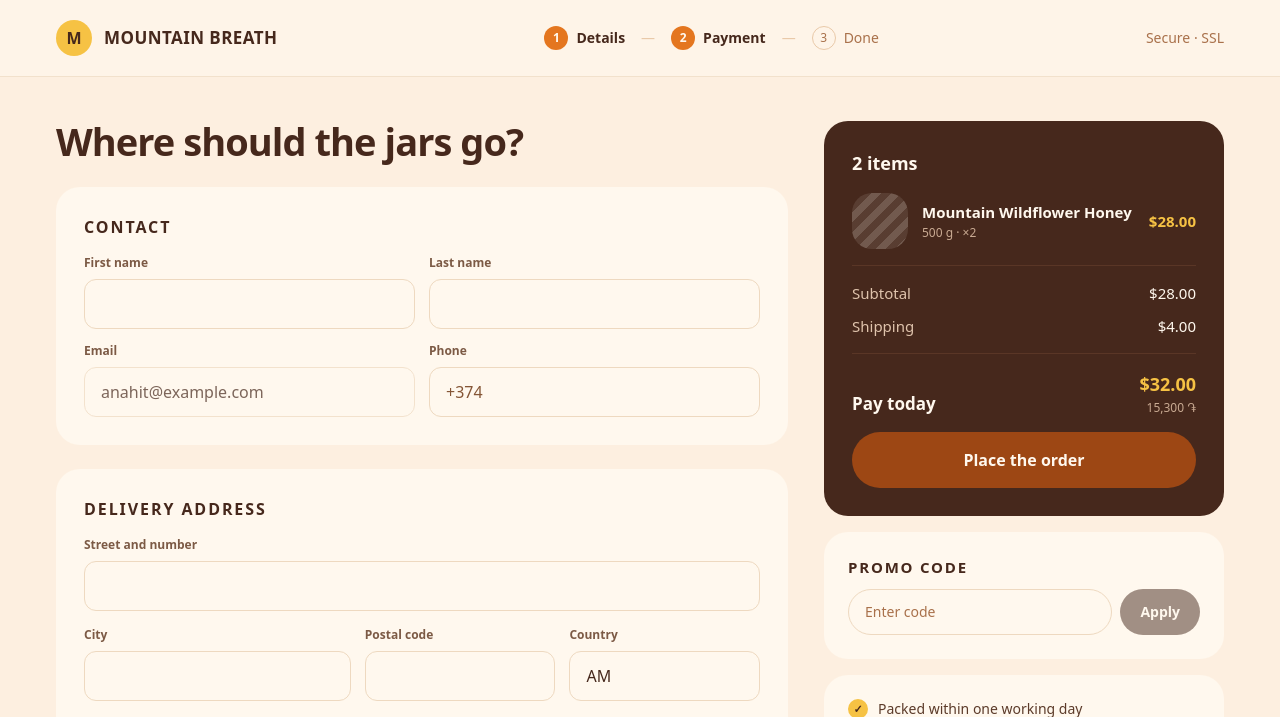
CheckoutPage › a stock 409 says how many are left, with a link to fix the cart
Expected: the heading "Where should the jars go?" is shown, [56,115,523,167]
Type "Anahit" into the field labelled "First name" at (250, 304), box [84,279,415,329]
Type "Sargsyan" into the field labelled "Last name" at (594, 304), box [429,279,760,329]
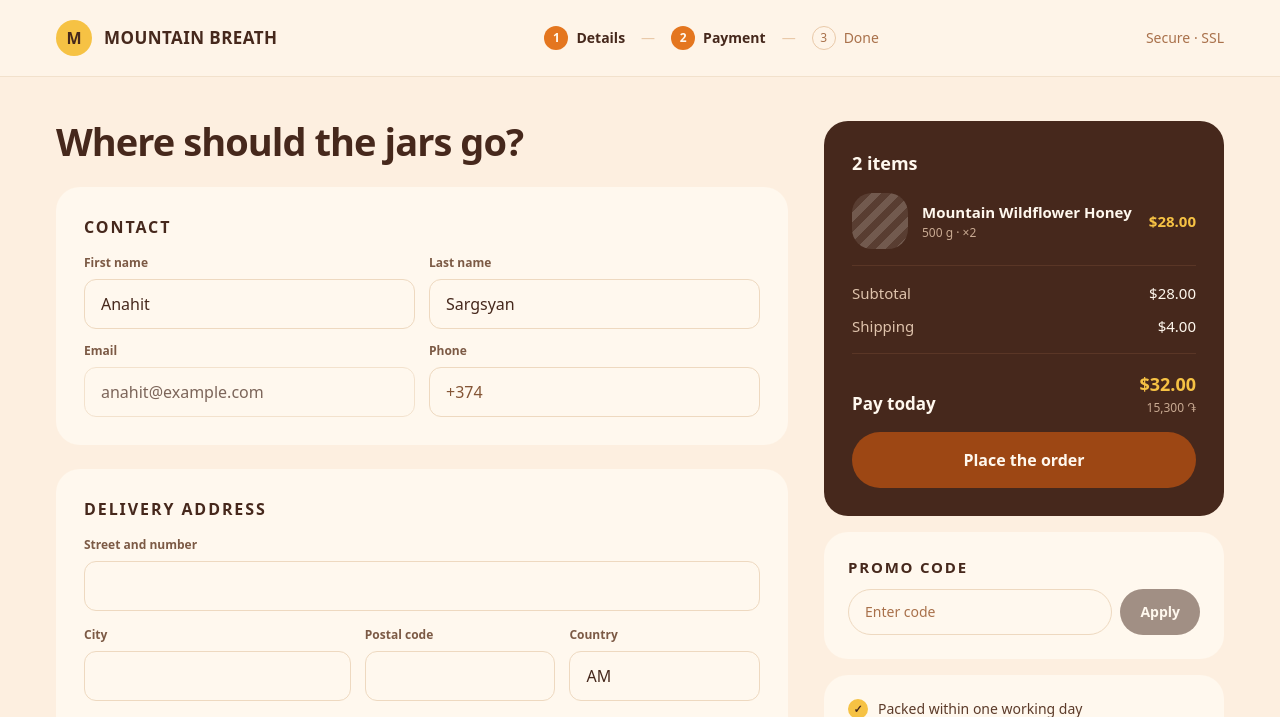
Type "+374 91 000000" into the field labelled "Phone" at (594, 392), box [429,367,760,417]
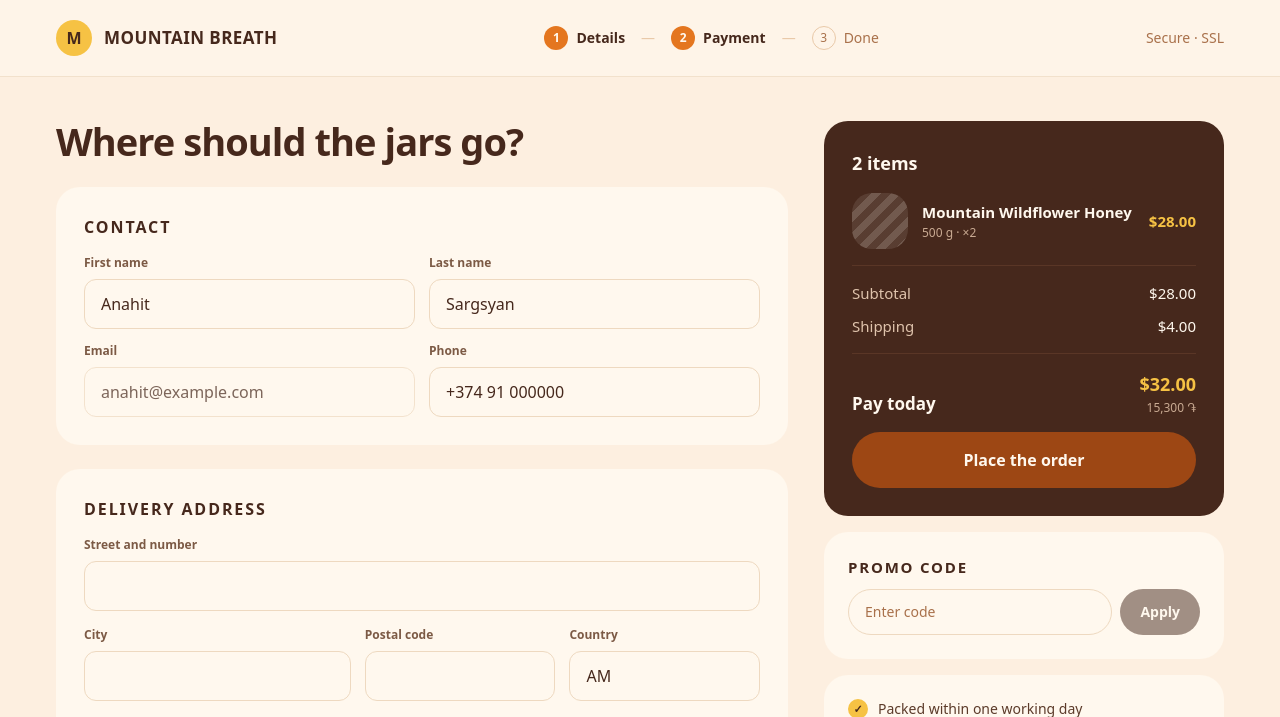
Type "14 Abovyan St, apt 6" into the field labelled "Street and number" at (422, 586), box [84,561,760,611]
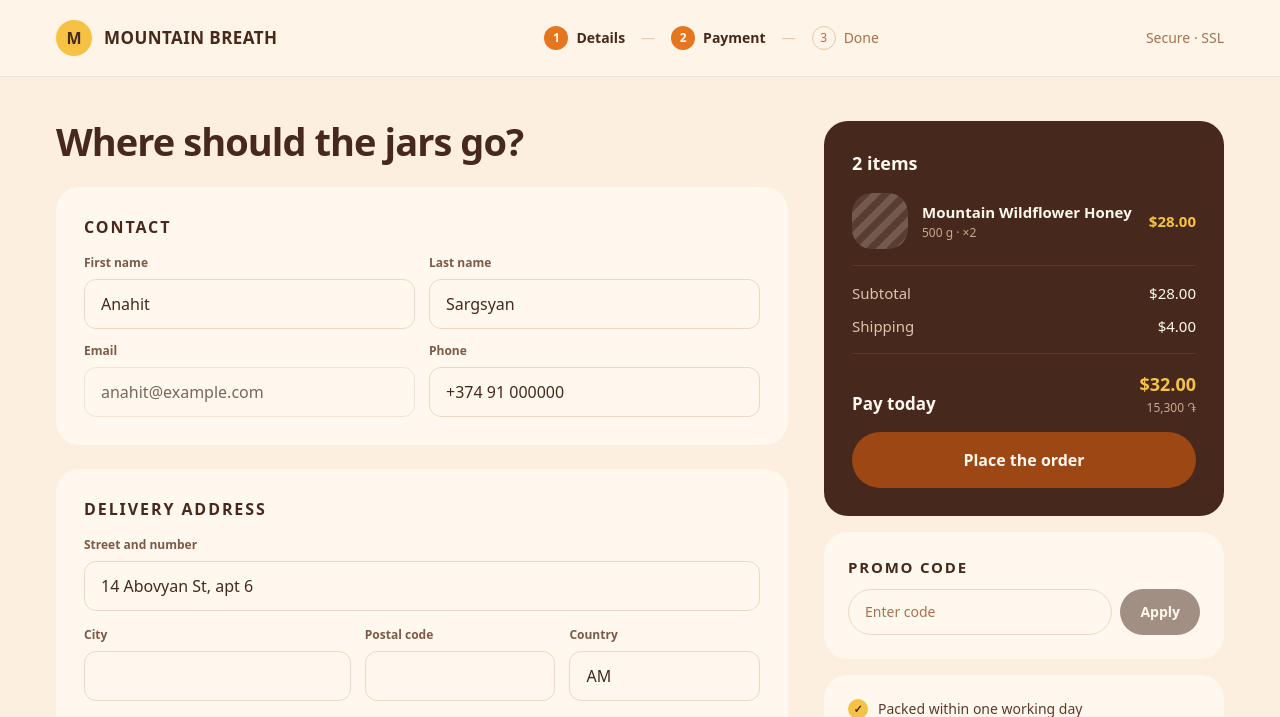
Type "Yerevan" into the field labelled "City" at (217, 676), box [84,651,351,701]
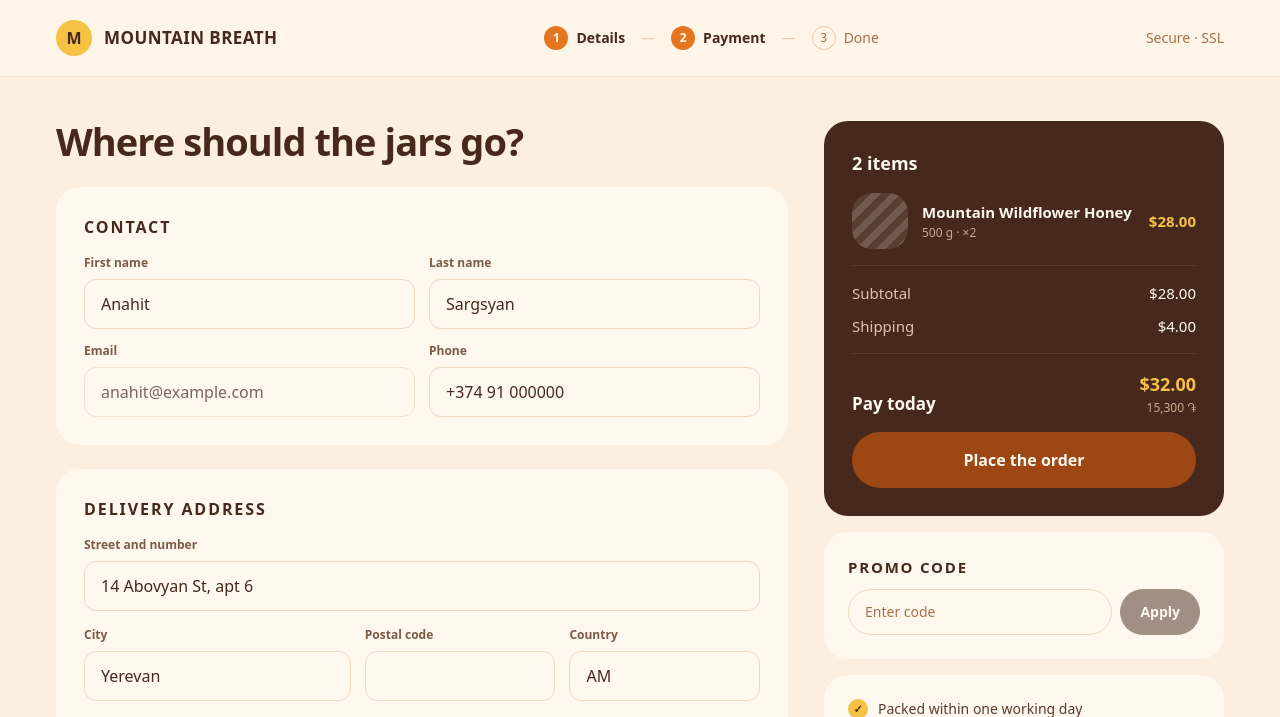
Type "0009" into the field labelled "Postal code" at (460, 676), box [365,651,555,701]
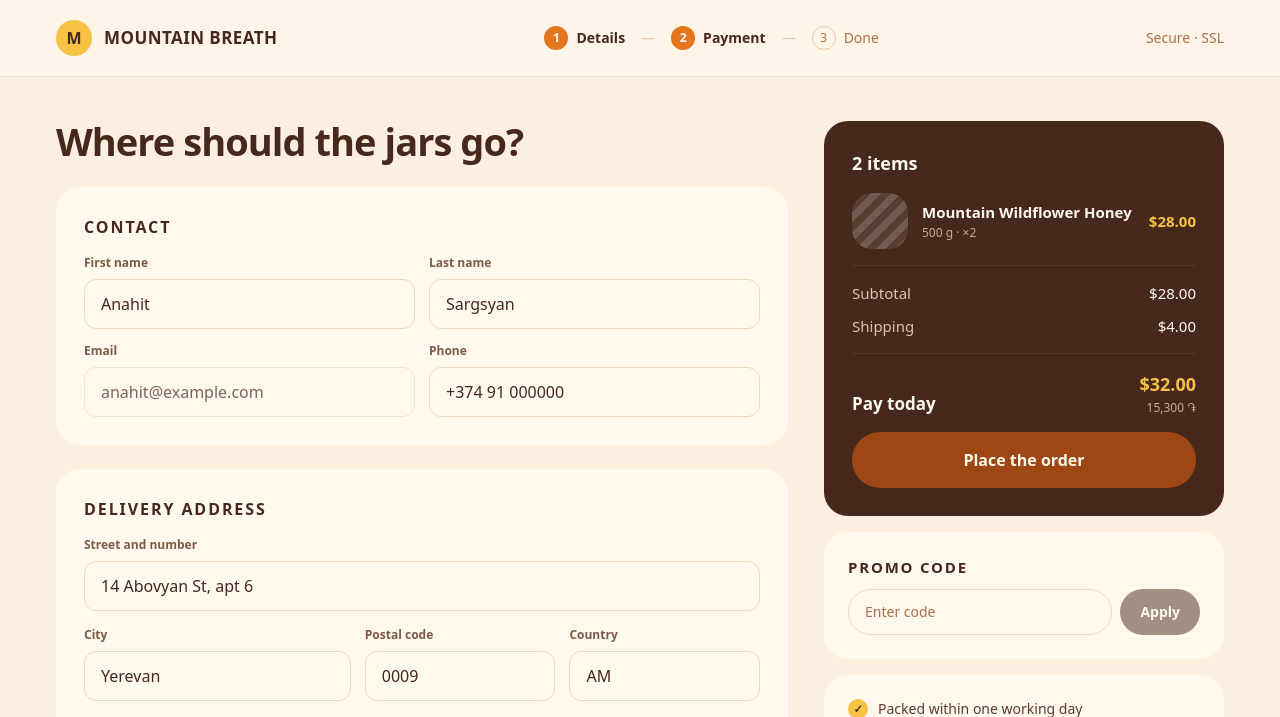
Click the button "Place the order" at (1024, 460), box [852,432,1196,488]
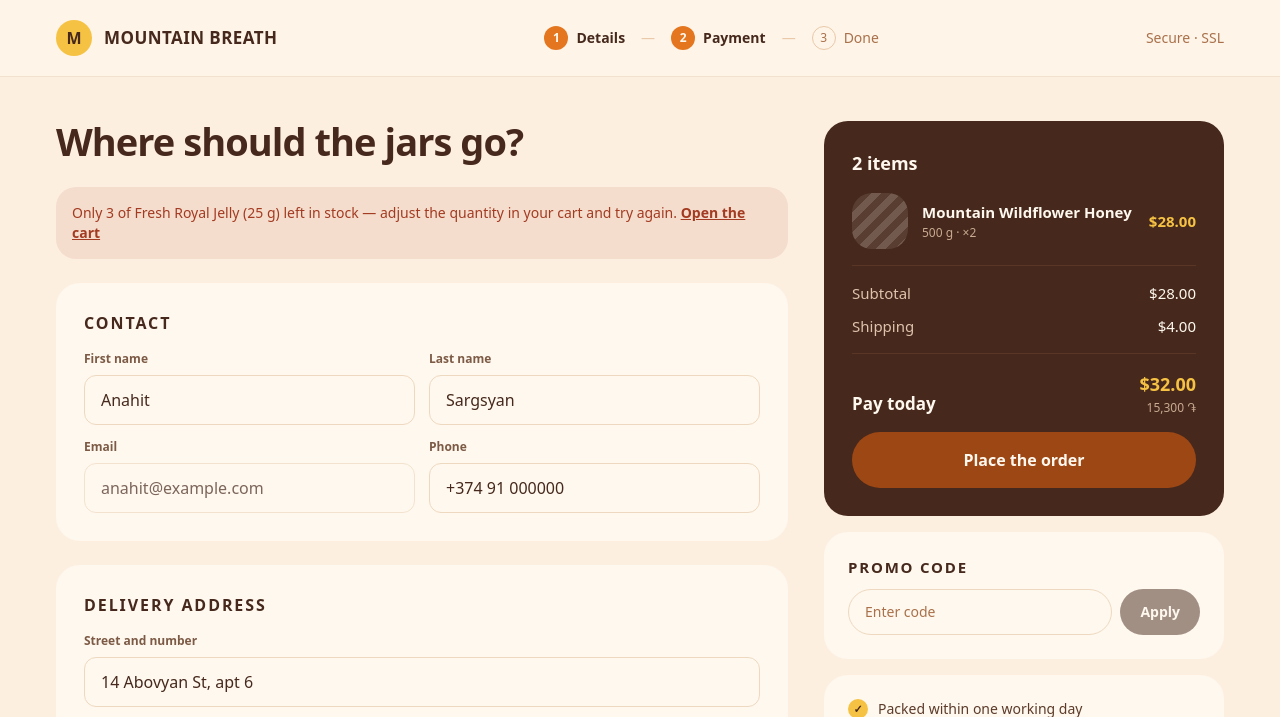
Expected: the message shows "Only 3 of Fresh Royal Jelly (25 g) left in stock", [72,203,677,222]
Expected: the link "Open the cart" is shown, [72,203,745,242]
